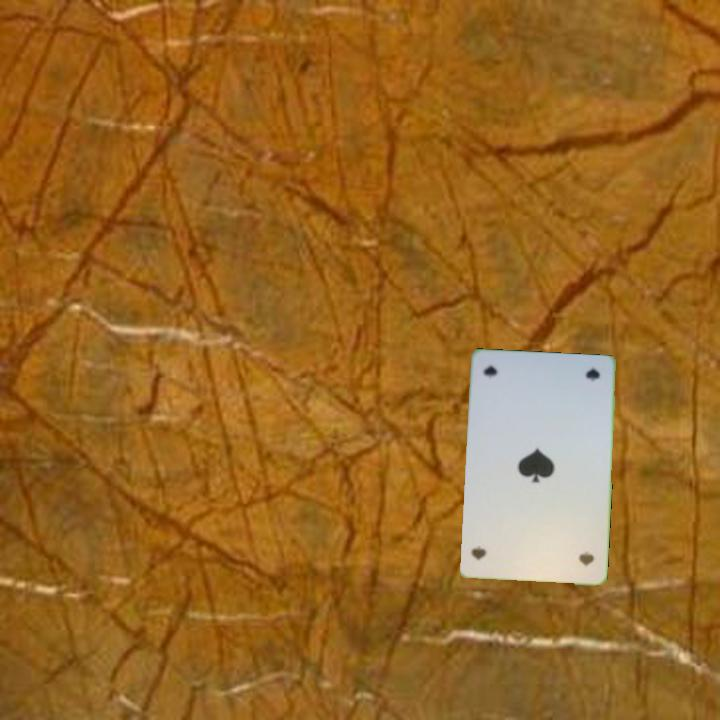s_a.png: (477, 359, 547, 420), (530, 515, 600, 576)
